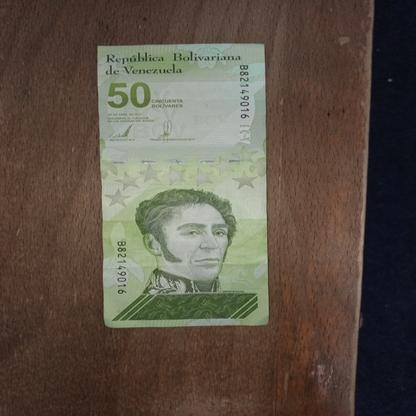fifty-front-vef: (98, 44, 268, 328)
